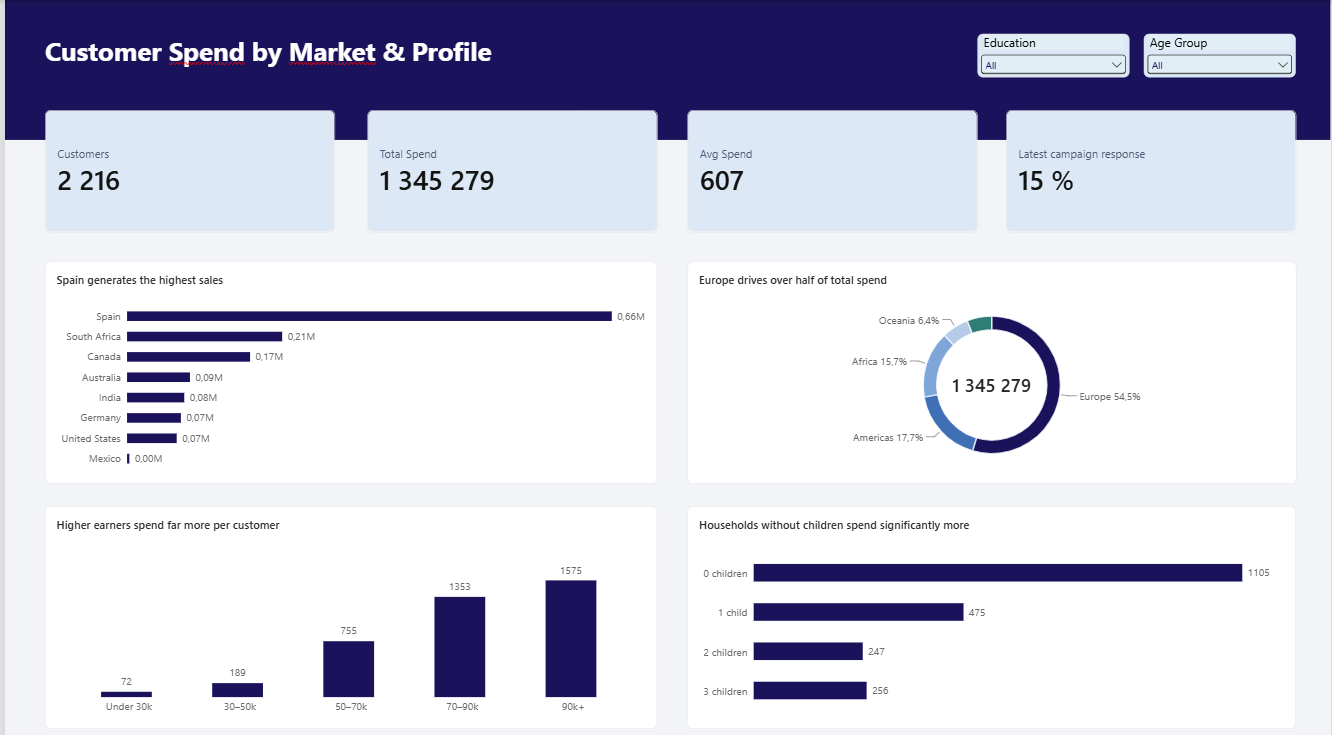

Layout of this report page (visuals, bound fields, positions):
{"tool":"powerbi","page":{"name":"Page 1","canvas":[1920,1080],"ordinal":0},"visuals":[{"type":"shape","box":[0,0,1920.1,202.7],"z":0},{"type":"cardVisual","fields":{"Data":["Metrics.Avg Spend"]},"box":[988.1,159.3,420,177.3],"z":1000},{"type":"cardVisual","fields":{"Data":["Metrics.Customers"]},"box":[57.9,159.3,420,177.3],"z":2000},{"type":"cardVisual","fields":{"Data":["Metrics.Response Rate"]},"box":[1449.5,159.3,420,177.3],"z":3000},{"type":"cardVisual","fields":{"Data":["Metrics.Total Spend"]},"box":[524.8,159.3,420,177.3],"z":4000},{"type":"textbox","box":[57.9,48.9,776.3,177.3],"z":5000},{"type":"clusteredBarChart","title":"Spain generates the highest sales","fields":{"Y":["Metrics.Total Spend"],"Category":["Dim_Country.Country Name"]},"box":[57.9,378.2,886.7,322.1],"z":6000},{"type":"donutChart","title":"Europe drives over half of total spend","fields":{"Category":["Dim_Country.region"],"Y":["Metrics.Total Spend"]},"box":[988.1,378.2,881.3,322.1],"z":7000},{"type":"clusteredColumnChart","title":"Higher earners spend far more per customer","fields":{"Category":["Fact_Customers.Income Band"],"Y":["Metrics.Avg Spend"]},"box":[57.9,732.9,886.7,322.1],"z":8000},{"type":"clusteredBarChart","title":"Households without children spend significantly more","fields":{"Y":["Metrics.Avg Spend"],"Category":["Fact_Customers.Household"]},"box":[988,733,881,322],"z":9000},{"type":"slicer","fields":{"Values":["Fact_Customers.Education"]},"box":[1407.9,48.9,220,63],"z":10000},{"type":"slicer","fields":{"Values":["Fact_Customers.Age_Group"]},"box":[1648.6,48.9,220,63.3],"z":11000}]}

Visuals, with their boxes in screenshot pixels (x1, y1, x2, y2), scaled from the page's 1920x1080 canvas onto the 1332x735 screenshot:
shape: detection(0, 0, 1331, 138)
cardVisual - Metrics.Avg Spend: detection(685, 108, 977, 229)
cardVisual - Metrics.Customers: detection(40, 108, 332, 229)
cardVisual - Metrics.Response Rate: detection(1006, 108, 1297, 229)
cardVisual - Metrics.Total Spend: detection(364, 108, 655, 229)
textbox: detection(40, 33, 579, 154)
"Spain generates the highest sales" clusteredBarChart: detection(40, 257, 655, 477)
"Europe drives over half of total spend" donutChart: detection(685, 257, 1297, 477)
"Higher earners spend far more per customer" clusteredColumnChart: detection(40, 499, 655, 718)
"Households without children spend significantly more" clusteredBarChart: detection(685, 499, 1297, 718)
slicer - Fact_Customers.Education: detection(977, 33, 1129, 76)
slicer - Fact_Customers.Age_Group: detection(1144, 33, 1296, 76)
